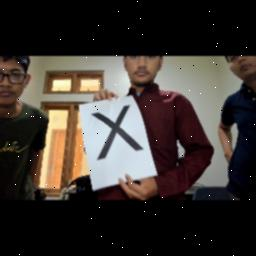x: (85, 102, 147, 162)
